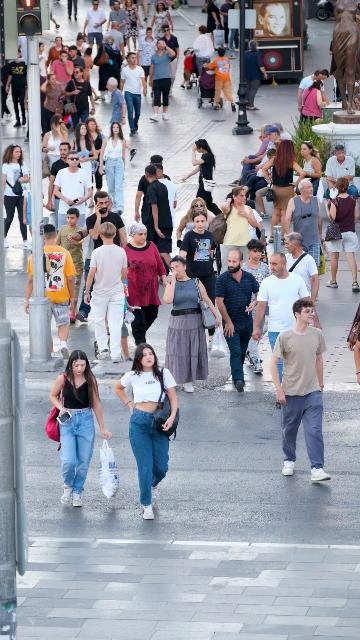person: (113, 342, 181, 522), (270, 300, 332, 482), (49, 350, 113, 507), (252, 252, 324, 379), (162, 254, 223, 393), (69, 190, 129, 324), (24, 224, 77, 362), (213, 249, 260, 394), (82, 221, 128, 362), (120, 223, 169, 347), (255, 139, 306, 245), (324, 177, 360, 293), (280, 178, 324, 271), (178, 211, 218, 309), (142, 165, 174, 276), (56, 207, 87, 321), (234, 125, 282, 198), (218, 186, 259, 270), (52, 152, 95, 232), (2, 144, 32, 251), (181, 139, 222, 216), (134, 154, 171, 235), (283, 232, 320, 309), (98, 121, 128, 214), (228, 124, 271, 187), (106, 77, 137, 161), (148, 37, 177, 122), (119, 53, 147, 137), (202, 47, 237, 112), (246, 149, 278, 217), (45, 142, 76, 212), (92, 34, 123, 104), (64, 65, 96, 131), (69, 123, 100, 187), (40, 74, 70, 139), (325, 144, 359, 199), (242, 40, 268, 111), (176, 198, 213, 245), (135, 27, 159, 95), (240, 239, 272, 288), (152, 163, 177, 225), (42, 115, 69, 171), (85, 117, 105, 189), (298, 141, 323, 198), (120, 0, 144, 53), (150, 3, 174, 50), (163, 25, 180, 87), (303, 80, 328, 122), (106, 1, 129, 46), (193, 25, 215, 71), (48, 50, 74, 85), (104, 21, 126, 60), (44, 36, 63, 77), (67, 45, 85, 80), (180, 50, 195, 90), (204, 0, 221, 33), (83, 47, 93, 85), (77, 34, 89, 57), (141, 0, 149, 22), (61, 45, 71, 58)
